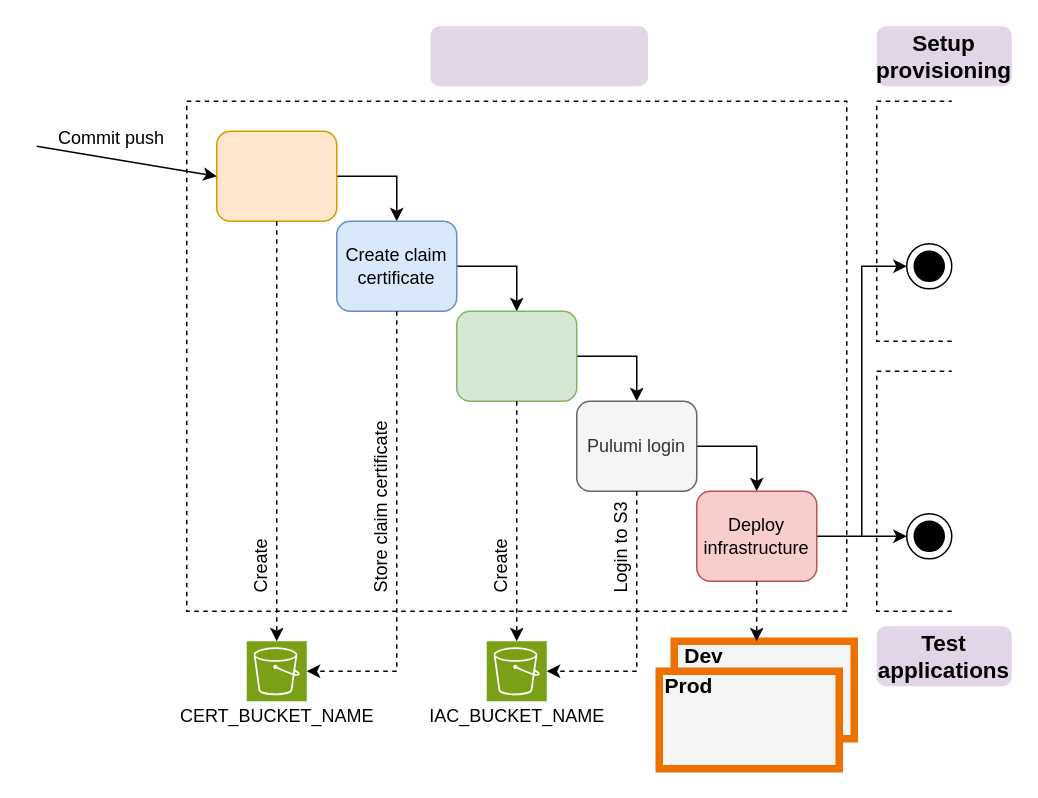
The diagram is 1038 pixels wide and 798 high, and some of its shapes have lost their labels. Each missing label, with the centre of its shape:
"Create S3 bucket for claim certificate" goes at pixel 276 175.
"Create S3 bucket for Pulumi stack" goes at pixel 516 355.
"Deploy infrastucture" goes at pixel 538 56.
